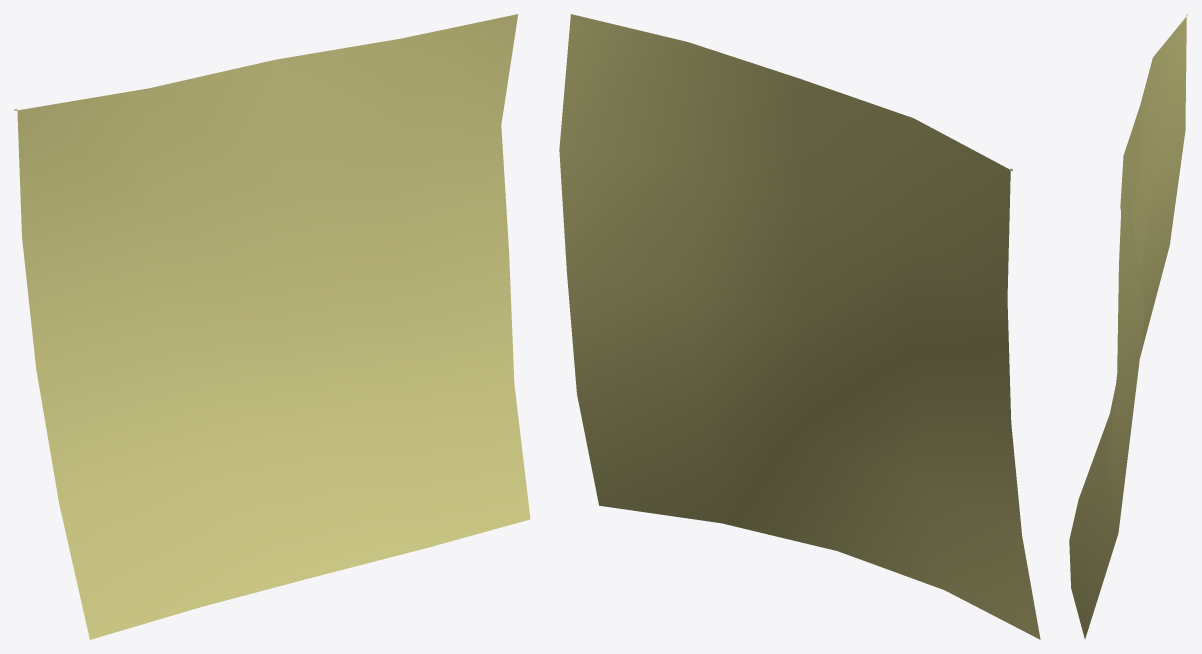
File: pin.fbx
3 views of the same model, side by side, from view 1: azimuth 30°, elevation 25°; view 2: azimuth 150°, elevation 25°; view 3: azimuth 270°, elevation 25° (orthographic). The views are drawn at different scales.
Parts seen in each view (by area): view 1: Postit; view 2: Postit; view 3: Postit.
Part boxes in pixels (left/top/right/bottom): Postit: left=14, top=14, right=530, bottom=639; Postit: left=559, top=14, right=1040, bottom=639; Postit: left=1069, top=14, right=1187, bottom=639.
Bounding box in the file's own units: 1.99 × 0.4909 × 2.08.
